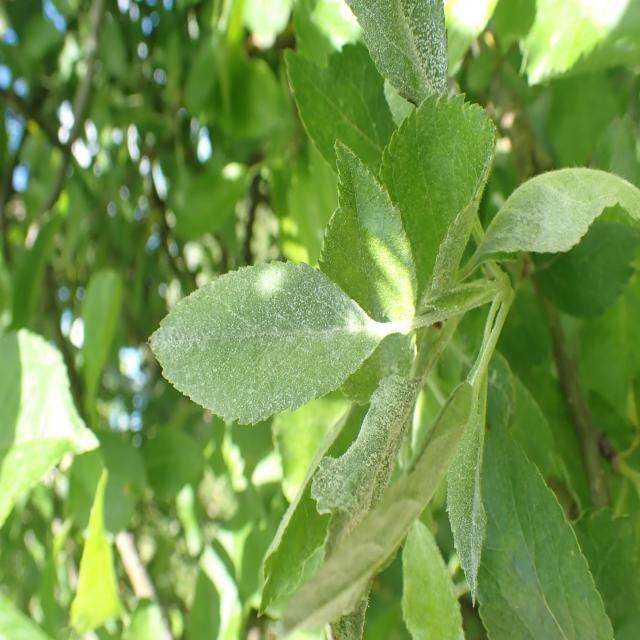Powdery_mildew: (134, 260, 374, 428), (279, 358, 436, 537), (384, 107, 494, 313), (487, 149, 640, 276), (442, 312, 509, 601), (341, 0, 461, 106)
